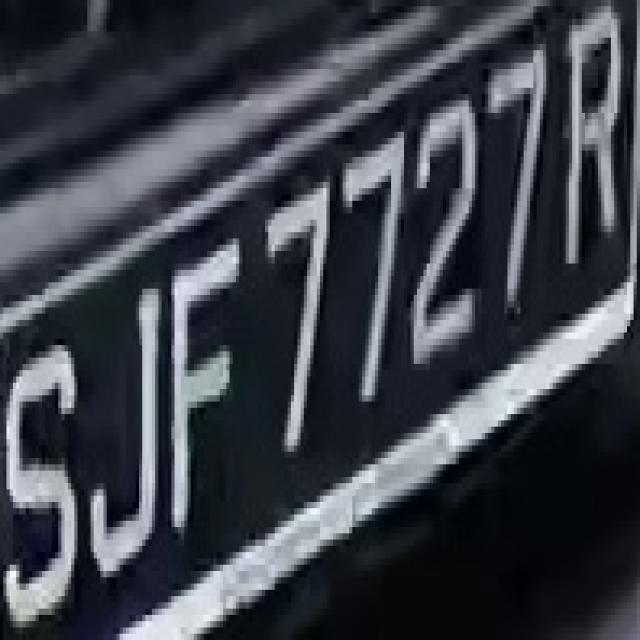2: (404, 100, 478, 383)
7: (327, 126, 420, 414), (252, 176, 336, 464), (482, 38, 552, 326)
F: (158, 251, 249, 546)
J: (87, 270, 162, 590)
R: (562, 0, 627, 276)
S: (3, 320, 84, 627)
